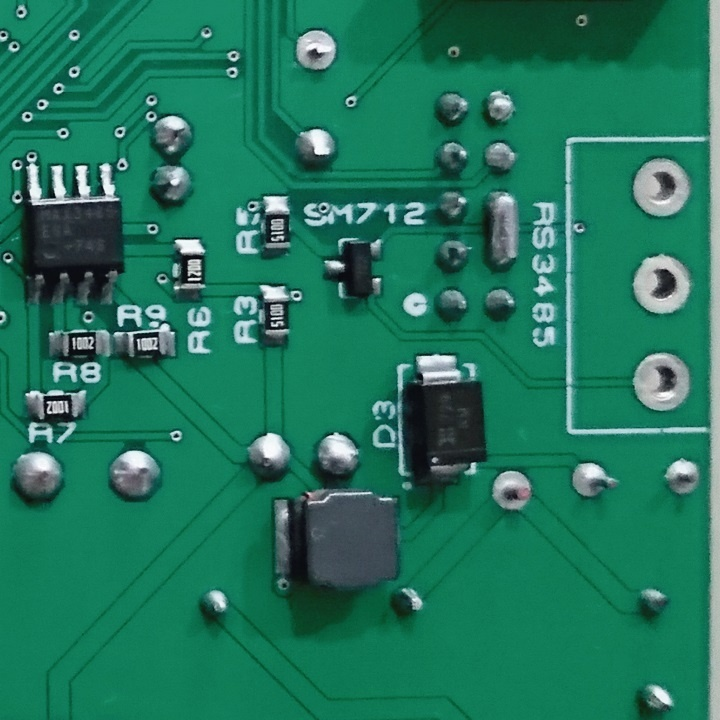F: (630, 153, 694, 222), (630, 252, 693, 319), (630, 351, 692, 415), (564, 457, 620, 500), (490, 466, 535, 515), (295, 26, 338, 76), (660, 450, 701, 499)
P: (476, 186, 527, 275)
